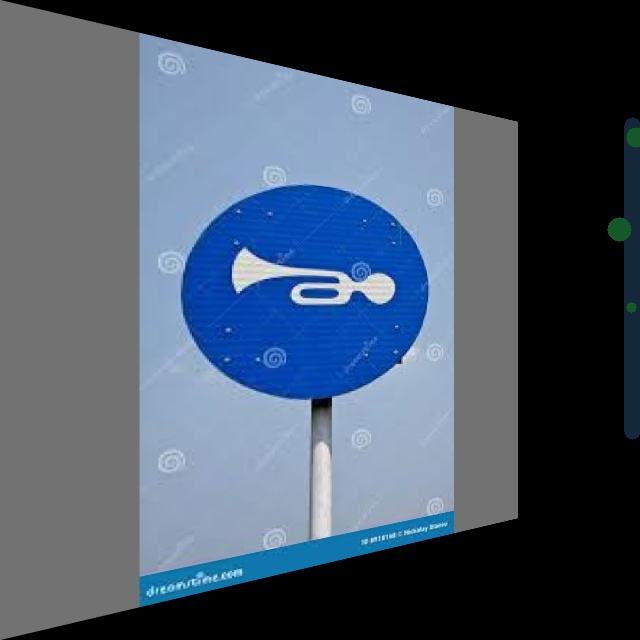Compulsory_Sound_Horn: (182, 164, 428, 403)
